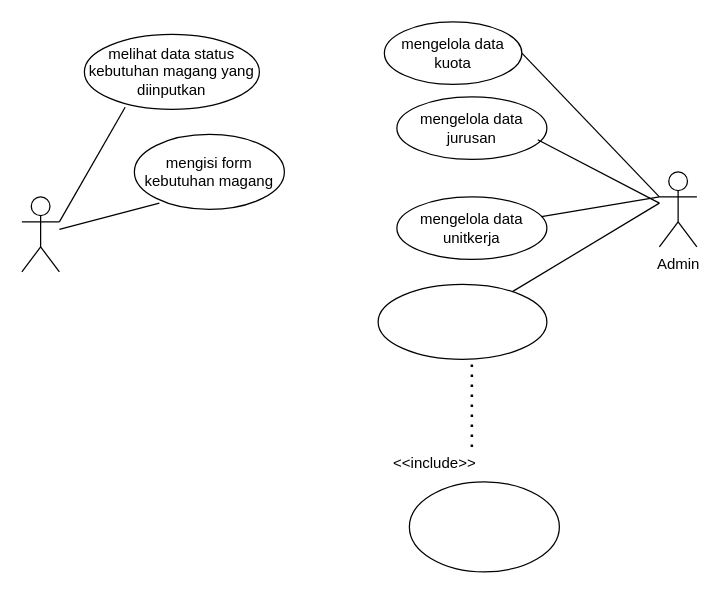
Image size: 721x594. Some labels were removed from this diagram. The shapes that lost their labels are listed below. From the top down, each one's centre as x and y in pixels, then its label:
At point (40, 234): "User".
At point (462, 321): "mengelola data permintaan form magang".
At point (483, 526): "login".
